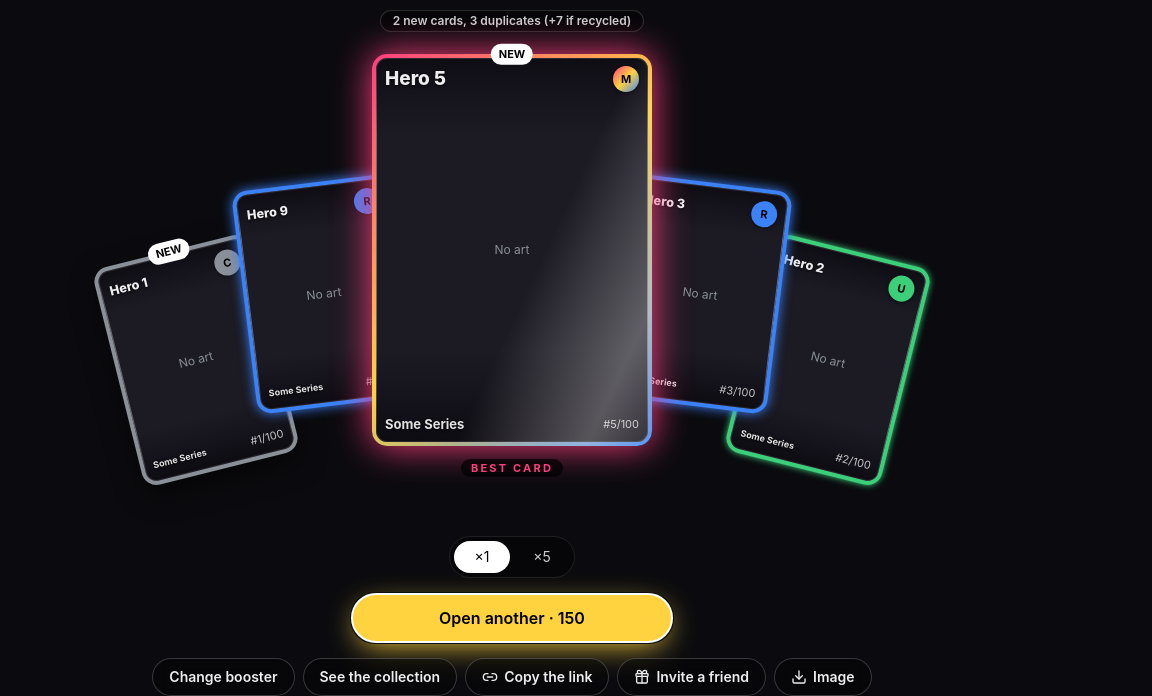
Test: Summary › shows an error when the image cannot be made
(page scrolled)
Click the button "Image". click: click(823, 677)
box: [774,658,872,695]
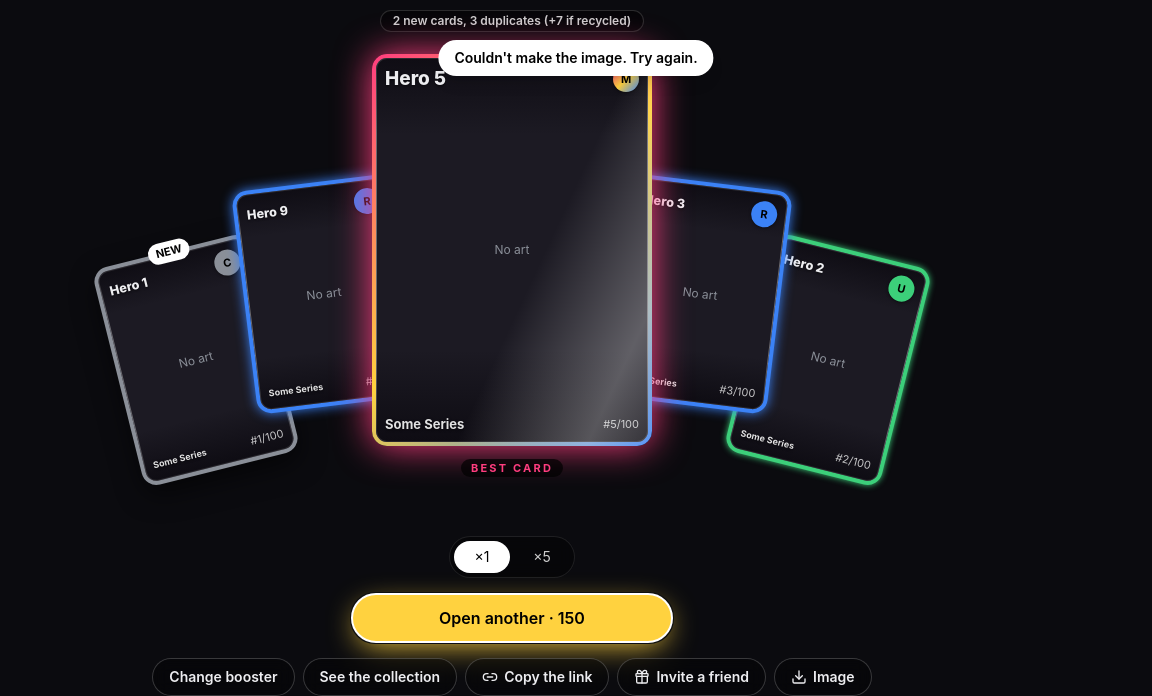
Check: the text "Couldn't make the image. Try again." is shown, box [438,40,714,76]
